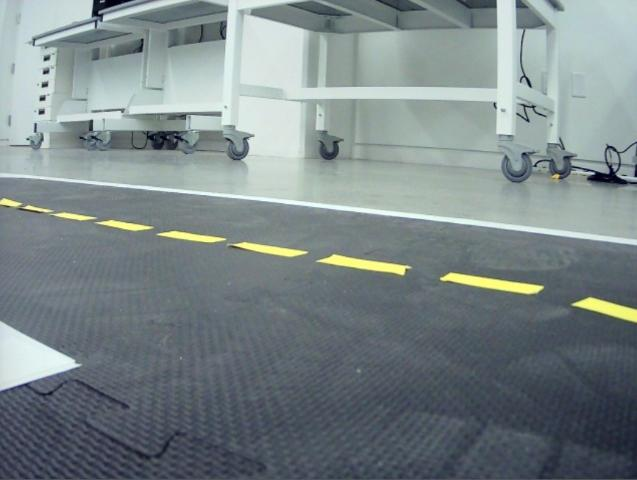whiteline: (0, 170, 637, 246), (0, 319, 80, 393)
yellowline: (0, 197, 637, 324)
